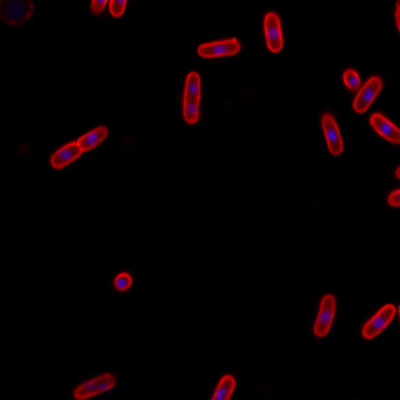CAM: (50, 124, 110, 170), (361, 303, 395, 340), (312, 293, 337, 339), (351, 76, 382, 113), (370, 112, 400, 145), (196, 37, 241, 59), (183, 70, 201, 125), (321, 112, 343, 156), (263, 12, 285, 54)
Oblique: (75, 371, 117, 400), (342, 68, 362, 92), (113, 272, 133, 291)
